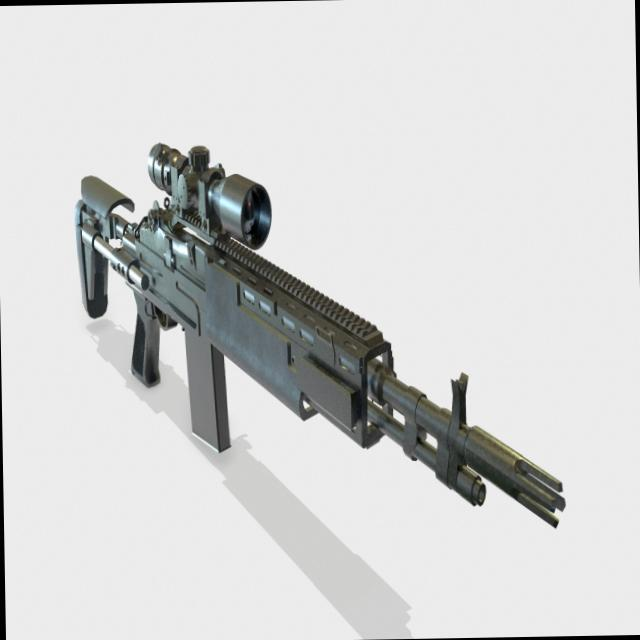Gun: (26, 103, 624, 591)
